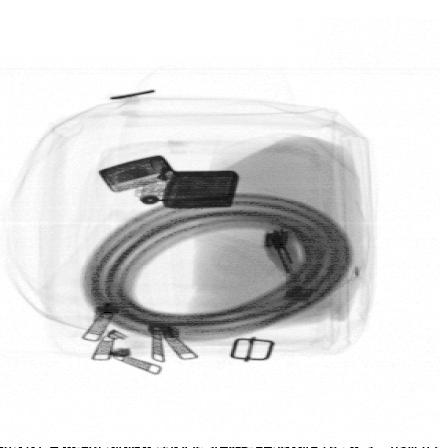Lighter: (97, 154, 241, 209)
